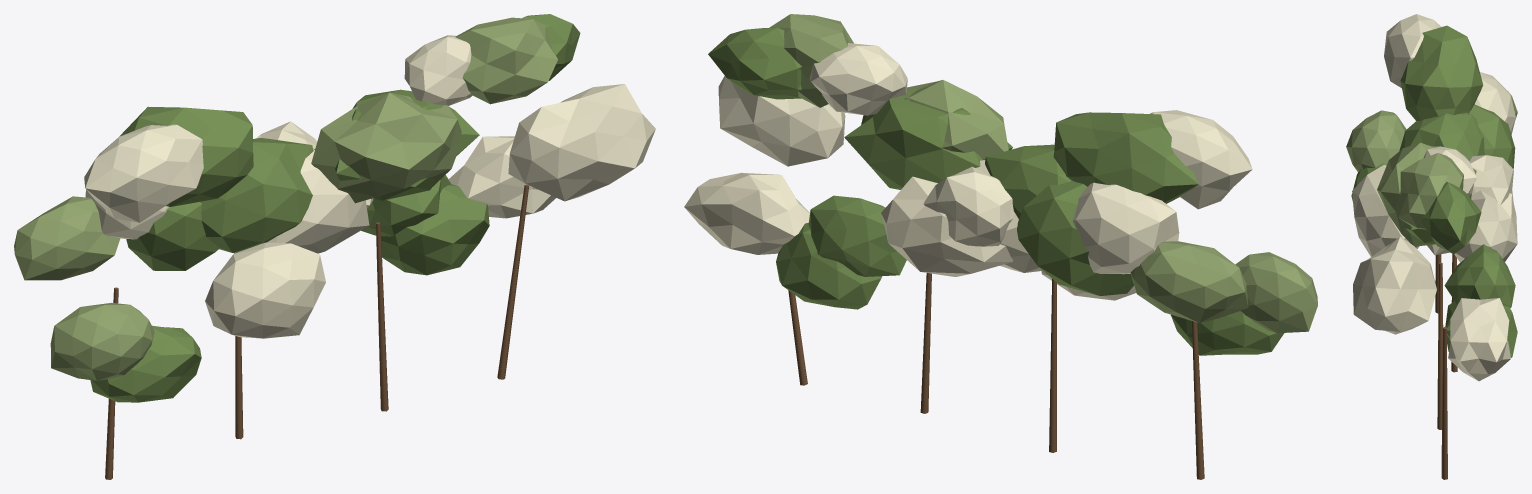
The model's file is fagyal-soveny-3m.glb.
3 renders of one model, left to right at view 1: azimuth 30°, elevation 25°; view 2: azimuth 150°, elevation 25°; view 3: azimuth 270°, elevation 25°, orthographic. The views are drawn at different scales.
Visible parts, largest first — view 1: korona-21, korona-13, korona-8, korona-4, korona-9, korona-18, korona-1, korona-2, korona-6, korona-17, korona-3, korona-20 (+12 smaller); view 2: korona-6, korona-14, korona-20, korona-21, korona-2, korona-5, korona-7, korona-12, korona-15, korona-4, korona-16, korona-1 (+12 smaller); view 3: korona-21, korona-6, korona-20, korona-18, korona-15, korona-19, korona-9, korona-1, korona-8, korona-12, korona-4, korona-13 (+10 smaller).
Boxes of the visible parts, x1,y1,x2,y2 form: korona-21: (508,84,655,201); korona-13: (311,92,461,203); korona-8: (205,242,325,338); korona-4: (84,124,203,222); korona-9: (200,138,313,252); korona-18: (455,17,557,104); korona-1: (50,302,154,380); korona-2: (14,196,120,280); korona-6: (119,106,253,206); korona-17: (381,184,489,275); korona-3: (90,325,201,402); korona-20: (448,136,556,218); korona-6: (1053,112,1198,203); korona-14: (844,88,1012,189); korona-20: (684,172,809,254); korona-21: (718,76,845,166); korona-2: (1130,241,1248,322); korona-5: (1072,182,1179,274); korona-7: (1017,181,1134,295); korona-12: (881,176,1013,276); korona-15: (808,195,906,276); korona-4: (1150,110,1252,209); korona-16: (809,43,907,115); korona-1: (1235,252,1317,333); korona-21: (1353,236,1436,334); korona-6: (1400,25,1482,120); korona-20: (1448,298,1510,381); korona-18: (1398,153,1463,229); korona-15: (1444,244,1515,308); korona-19: (1421,182,1481,254); korona-9: (1399,112,1484,159); korona-1: (1346,110,1406,172); korona-8: (1352,165,1419,256); korona-12: (1454,190,1517,262); korona-4: (1384,14,1440,88); korona-13: (1377,142,1441,247).
Bounding box in the file's own units: 3.35 × 1.92 × 0.9567.
